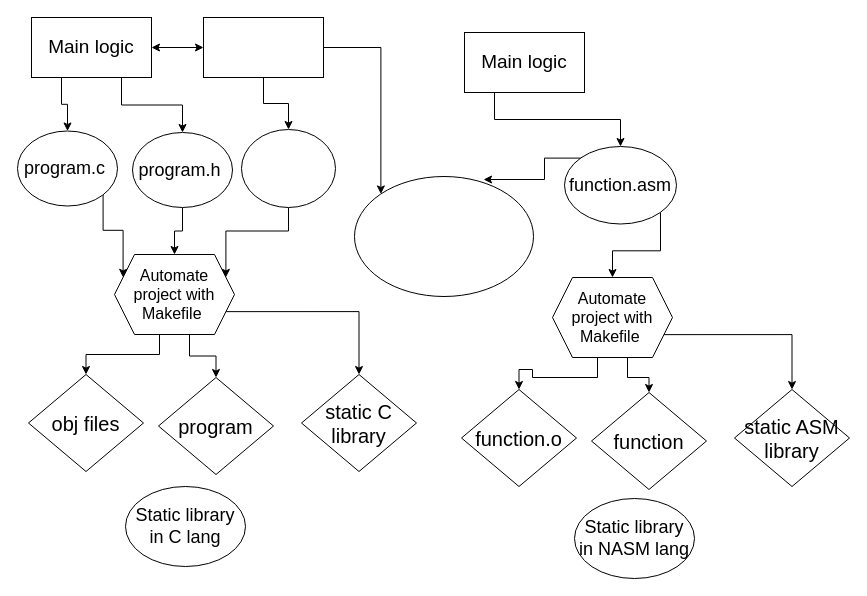
The diagram is 867 pixels wide and 596 high, and some of its shapes have lost their labels. The centre of each missing label's shape, as x and y in pixels:
Additional logic: the point at 263,47
function.c: the point at 288,168
GNU Binutils(ar ) GNU C Compiler GNU Makefile: the point at 444,236
